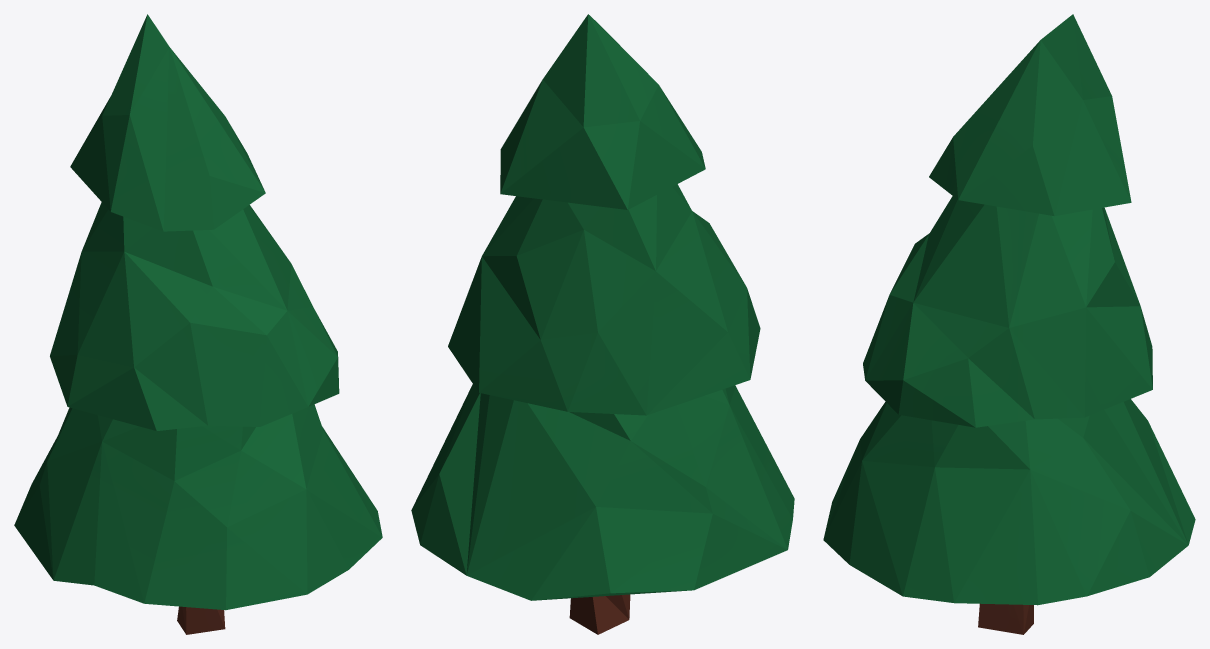
File: Spruce_1.fbx
3 views of the same model, side by side, from view 1: azimuth 30°, elevation 25°; view 2: azimuth 150°, elevation 25°; view 3: azimuth 270°, elevation 25° (orthographic). The views are drawn at different scales.
Parts seen in each view (by area): view 1: Spruce_1; view 2: Spruce_1; view 3: Spruce_1.
Boxes of the visible parts, <box> form: Spruce_1: <box>14,14,382,634</box>; Spruce_1: <box>411,14,794,634</box>; Spruce_1: <box>823,14,1195,634</box>.
Bounding box in the file's own units: 3.33 × 6.07 × 3.38.
